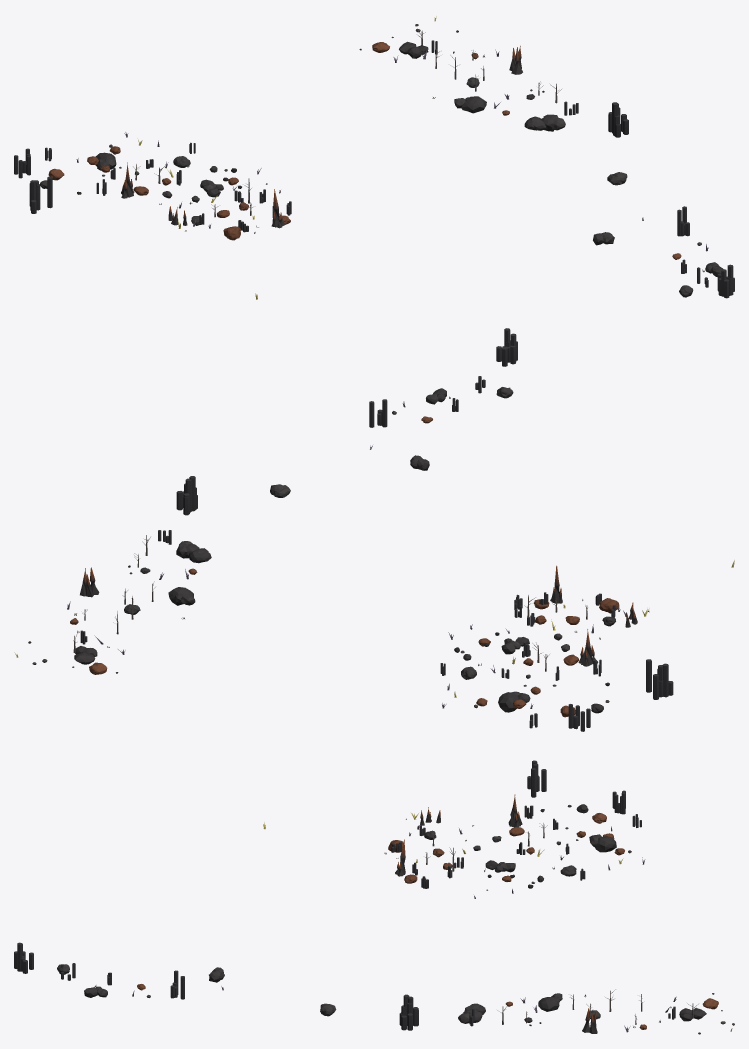
File: ash_land_scatter_c20_30.glb
3 renders of one model, top to bottom at view 1: azimuth 30°, elevation 25°; view 2: azimuth 150°, elevation 25°; view 3: azimuth 270°, elevation 25°, orthographic. The views are drawn at different scales.
Parts seen in each view (by area): view 1: ash_land_scatter_c20_30; view 2: ash_land_scatter_c20_30; view 3: ash_land_scatter_c20_30.
Part boxes in pixels (x1,y1,x2,y2): ash_land_scatter_c20_30: (14, 16, 734, 299); ash_land_scatter_c20_30: (14, 328, 734, 731); ash_land_scatter_c20_30: (14, 760, 734, 1034).
Bounding box in the file's own units: 204 × 22.44 × 256.
